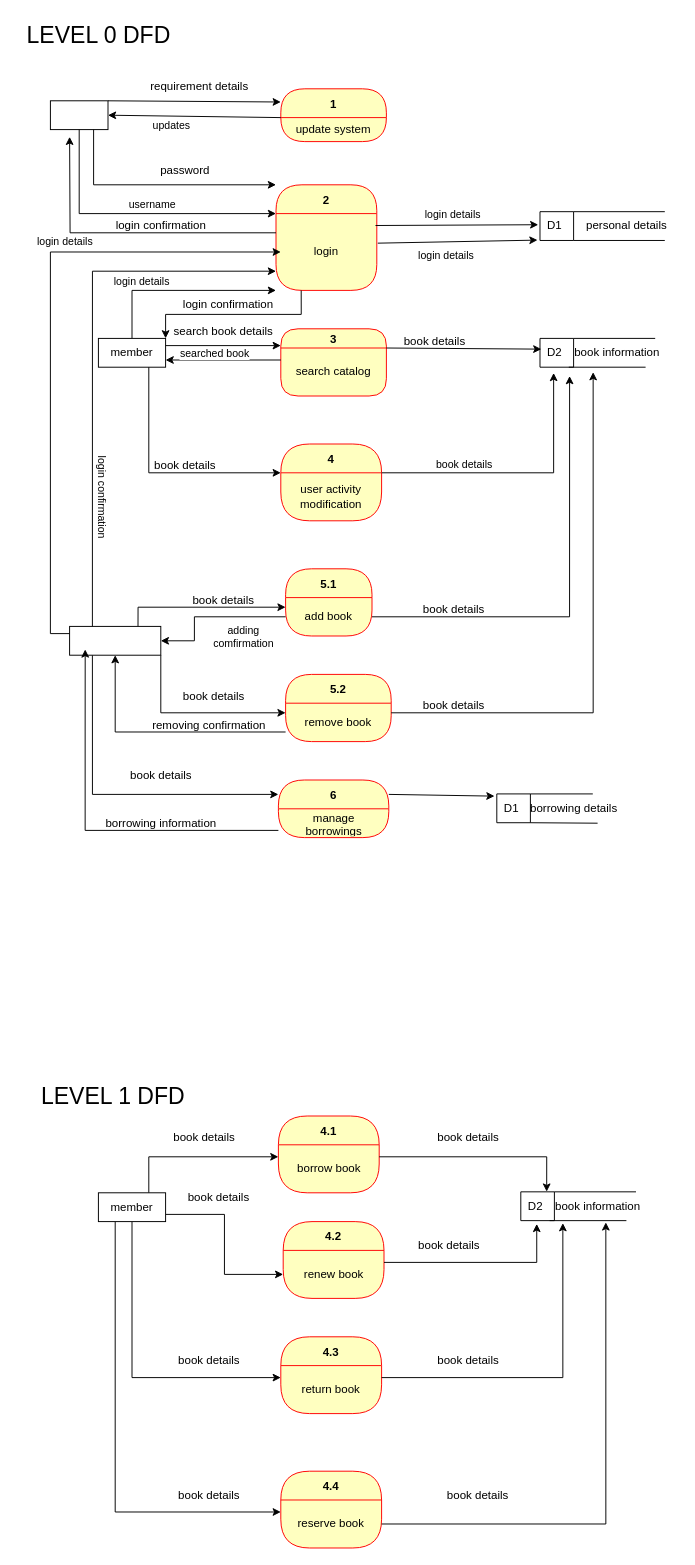
This 695x1565 diagram has some shape labels left out. The box of each missing label's shape, as (x1, y1, x2, y2) in pixels:
admin: (49, 100, 108, 130)
librarian: (69, 625, 161, 655)
